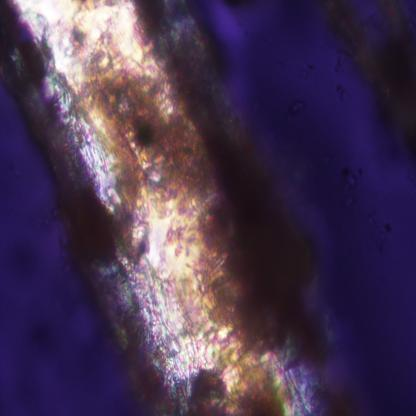Microfibre: (0, 0, 325, 414)
